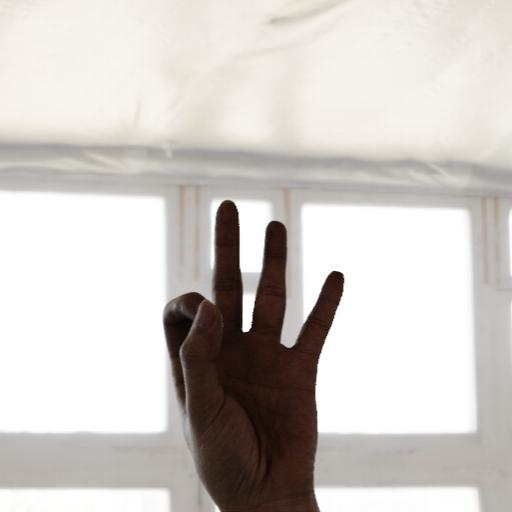F: (144, 178, 360, 512)
